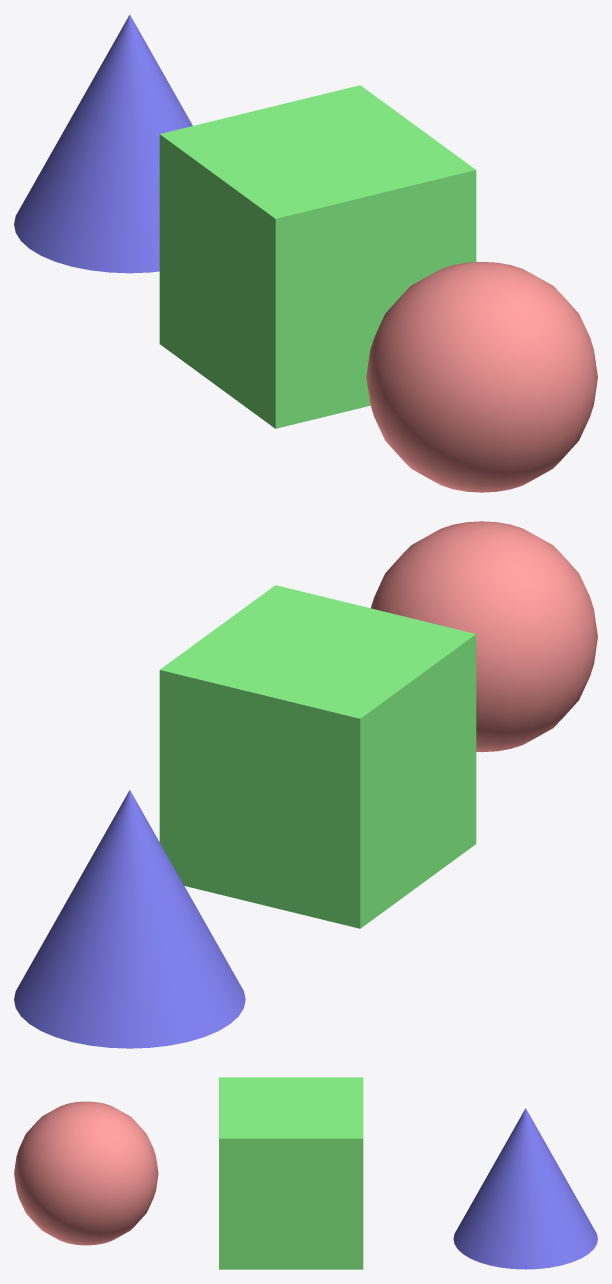
3 renders of one model, top to bottom at view 1: azimuth 30°, elevation 25°; view 2: azimuth 150°, elevation 25°; view 3: azimuth 270°, elevation 25°, orthographic. The views are drawn at different scales.
Visible parts, largest first — view 1: Cube, Sphere, Cone; view 2: Cube, Cone, Sphere; view 3: Cube, Sphere, Cone.
Part boxes in pixels (<box>): Cube: <box>159,85,476,428</box>; Sphere: <box>366,262,597,492</box>; Cone: <box>14,14,192,273</box>; Cube: <box>159,585,476,928</box>; Cone: <box>14,790,245,1048</box>; Sphere: <box>371,521,597,752</box>; Cube: <box>219,1077,363,1269</box>; Sphere: <box>14,1101,158,1245</box>; Cone: <box>453,1108,597,1269</box>.
Bounding box in the file's own units: 97240 × 97240 × 392931.
